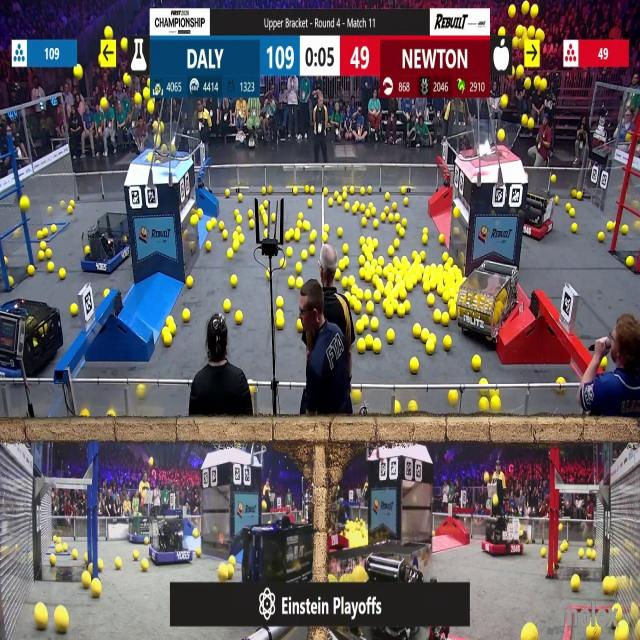ball_airborne: (74, 64, 83, 80), (21, 197, 30, 211), (522, 2, 530, 15), (533, 76, 540, 90), (524, 77, 532, 89), (142, 89, 150, 101), (105, 27, 113, 39), (507, 5, 515, 17), (532, 56, 540, 68), (539, 77, 547, 89), (498, 129, 505, 142), (120, 38, 127, 51), (535, 30, 544, 40), (492, 495, 500, 506), (500, 96, 507, 108), (510, 5, 517, 17), (528, 27, 535, 39), (532, 4, 538, 17), (135, 94, 142, 105), (517, 66, 524, 77), (101, 99, 108, 110), (517, 27, 524, 38), (453, 208, 460, 219), (123, 73, 129, 85), (148, 101, 154, 113), (501, 94, 507, 106), (528, 117, 534, 128), (263, 500, 269, 510), (523, 114, 528, 125), (499, 28, 505, 37), (485, 472, 490, 482), (160, 122, 166, 130), (153, 120, 158, 129), (514, 38, 518, 48), (155, 136, 160, 144), (148, 153, 152, 161)
ball_ground: (56, 608, 70, 634), (603, 577, 615, 595), (570, 576, 580, 592), (449, 390, 459, 406), (480, 396, 490, 411), (411, 357, 420, 373), (81, 572, 90, 588), (351, 389, 361, 403), (471, 356, 480, 370), (276, 314, 284, 329), (370, 317, 378, 331), (357, 340, 365, 354), (387, 331, 395, 345), (365, 302, 373, 315), (374, 341, 382, 354), (414, 324, 422, 337), (426, 342, 434, 355), (444, 312, 451, 326), (354, 302, 362, 314), (70, 305, 78, 317), (223, 300, 230, 313), (394, 399, 400, 414), (28, 266, 36, 277), (410, 400, 418, 411), (182, 310, 189, 322), (295, 277, 302, 289), (186, 276, 193, 288), (288, 276, 295, 288), (433, 311, 440, 323), (141, 560, 148, 572), (237, 312, 244, 324), (627, 256, 635, 266), (374, 291, 382, 301), (296, 319, 302, 332), (164, 333, 170, 346), (115, 558, 122, 569), (295, 263, 301, 275), (293, 230, 299, 242), (428, 293, 434, 305), (310, 232, 317, 242), (190, 215, 197, 225), (234, 242, 241, 252), (46, 263, 52, 274), (61, 269, 67, 280), (49, 555, 55, 566), (228, 567, 233, 580), (421, 236, 428, 245), (606, 221, 612, 231), (598, 233, 604, 243), (358, 255, 364, 265), (231, 278, 237, 288), (310, 246, 316, 256), (98, 560, 104, 570), (227, 249, 233, 259), (45, 249, 51, 259), (322, 234, 328, 244), (304, 220, 310, 230), (359, 269, 364, 281), (444, 252, 450, 262), (81, 410, 88, 418), (233, 233, 240, 241), (481, 378, 488, 386), (602, 357, 607, 368), (571, 223, 577, 232), (40, 241, 46, 250), (338, 229, 344, 238), (270, 213, 276, 222), (336, 272, 342, 281), (343, 256, 349, 265), (562, 541, 568, 550), (72, 550, 77, 560), (558, 378, 565, 385), (569, 208, 575, 216), (286, 248, 292, 256), (192, 529, 198, 537), (378, 256, 384, 264), (388, 247, 394, 255), (344, 204, 350, 212), (359, 205, 365, 213), (50, 224, 56, 232), (440, 236, 446, 244), (399, 229, 404, 238), (394, 240, 399, 249), (401, 218, 406, 227), (361, 217, 366, 226), (8, 277, 13, 286), (219, 220, 224, 229), (195, 549, 200, 558), (576, 190, 581, 199), (344, 244, 349, 252), (222, 232, 227, 240), (395, 214, 400, 222), (249, 219, 254, 227), (579, 549, 583, 559), (248, 210, 253, 218), (366, 202, 371, 210), (68, 207, 73, 215), (83, 554, 88, 562), (264, 201, 269, 209), (453, 208, 457, 218), (403, 198, 407, 207), (172, 325, 176, 334), (265, 230, 269, 239), (237, 216, 242, 223), (395, 224, 400, 231), (449, 257, 454, 264), (267, 272, 271, 280), (386, 191, 390, 199), (556, 197, 560, 205), (308, 200, 312, 208), (224, 188, 228, 196), (324, 223, 328, 231), (250, 386, 254, 394), (370, 209, 374, 217), (328, 200, 332, 207), (236, 209, 240, 216), (352, 208, 356, 214), (237, 226, 241, 232), (355, 202, 359, 208)
goal: (129, 130, 186, 161)
robot_blue: (243, 522, 314, 623), (0, 291, 64, 379), (82, 216, 131, 276), (150, 516, 192, 564), (129, 519, 152, 543)
robot_red: (458, 258, 525, 344), (524, 192, 556, 242), (482, 520, 522, 556)
